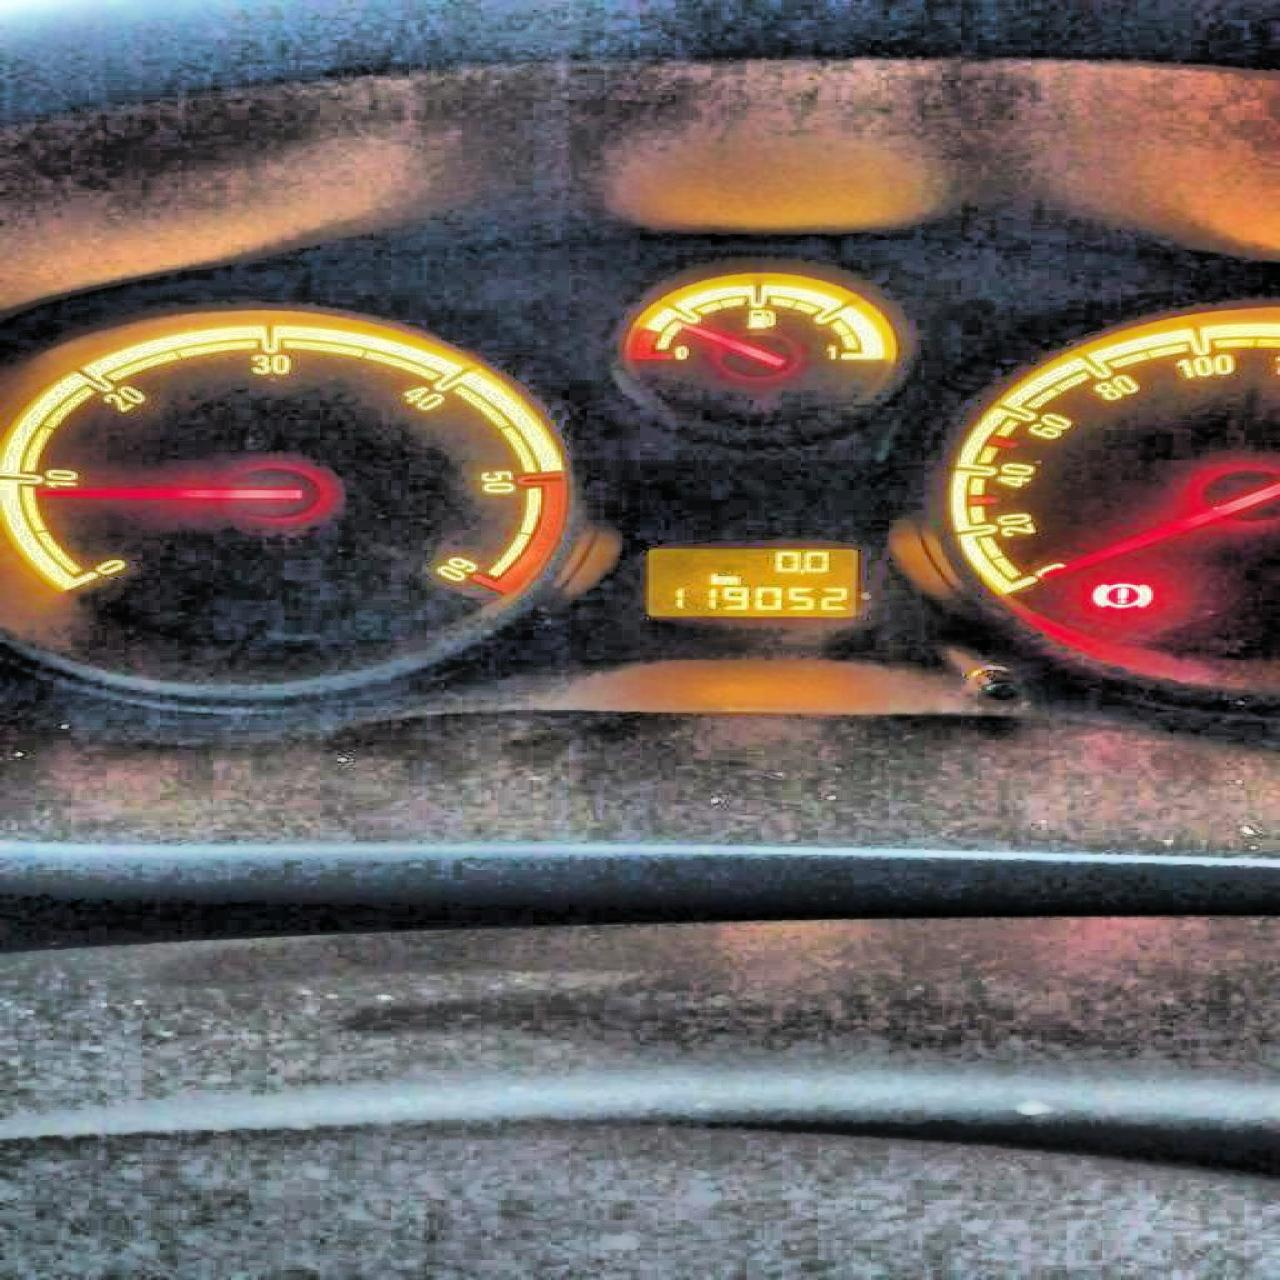-: (796, 567, 806, 574)
0: (754, 585, 779, 610), (771, 550, 798, 571), (802, 550, 829, 571)
1: (669, 585, 689, 610), (702, 585, 716, 610)
2: (816, 584, 849, 613)
5: (787, 585, 813, 611)
9: (720, 584, 749, 610)
X: (709, 571, 722, 584), (722, 574, 737, 584)
odometer: (642, 546, 860, 619)
